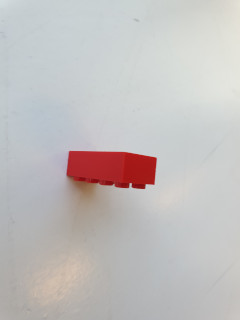2x4 red: (67, 147, 159, 194)
